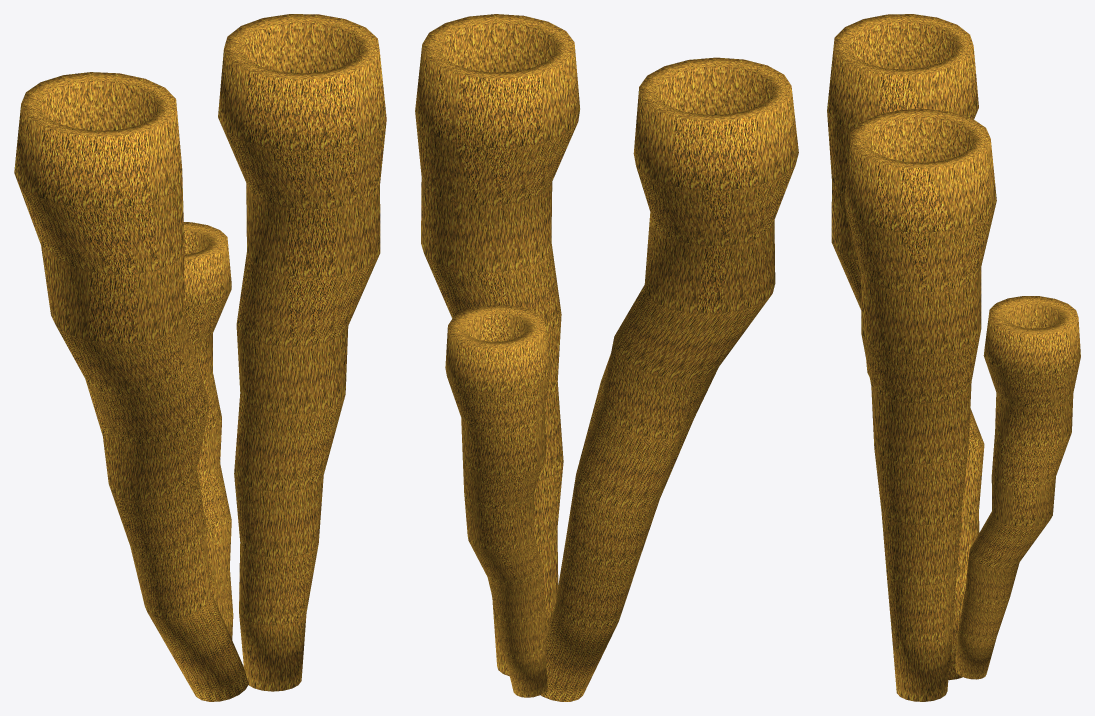
The model's file is Sponge_2.fbx.
3 views of the same model, side by side, from view 1: azimuth 30°, elevation 25°; view 2: azimuth 150°, elevation 25°; view 3: azimuth 270°, elevation 25° (orthographic). The views are drawn at different scales.
Visible parts, largest first — view 1: Cylinder; view 2: Cylinder; view 3: Cylinder.
Part boxes in pixels (box(x1,y1,x2,y2)): Cylinder: box(14, 14, 386, 701); Cylinder: box(415, 14, 798, 701); Cylinder: box(827, 14, 1080, 701).
Size of the model in its own units: 32.83 by 55.72 by 22.3.
Materials: 1 (1 with a texture image).
